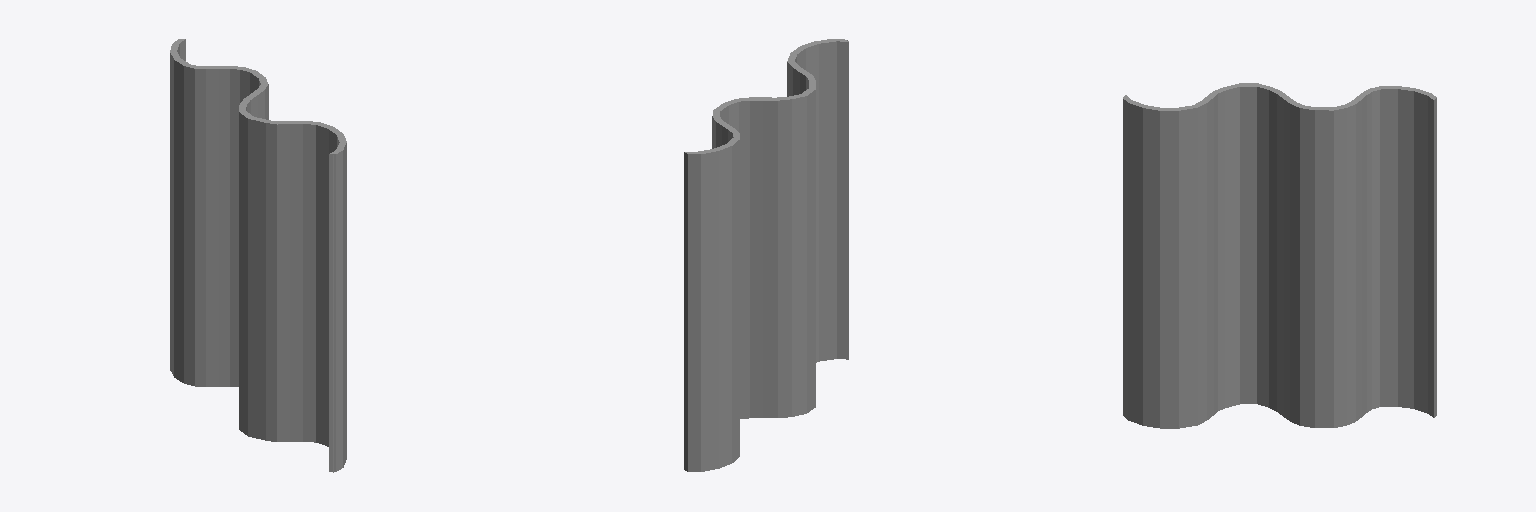
File: vidro_ondulado.obj
3 renders of one model, left to right at view 1: azimuth 30°, elevation 25°; view 2: azimuth 150°, elevation 25°; view 3: azimuth 270°, elevation 25°, orthographic.
Visible parts, largest first — view 1: vidro_final_Plane.010; view 2: vidro_final_Plane.010; view 3: vidro_final_Plane.010.
Boxes of the visible parts, x1,y1,x2,y2 form: vidro_final_Plane.010: [170, 39, 346, 472]; vidro_final_Plane.010: [684, 39, 848, 471]; vidro_final_Plane.010: [1123, 83, 1436, 428].
Bounding box in the file's own units: 0.4186 × 2.26 × 2.03.